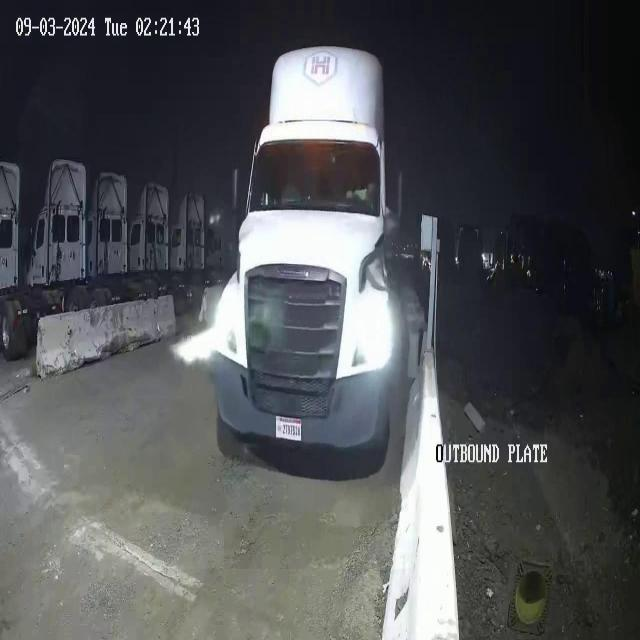TRUCK_OUT: (210, 43, 409, 481)
